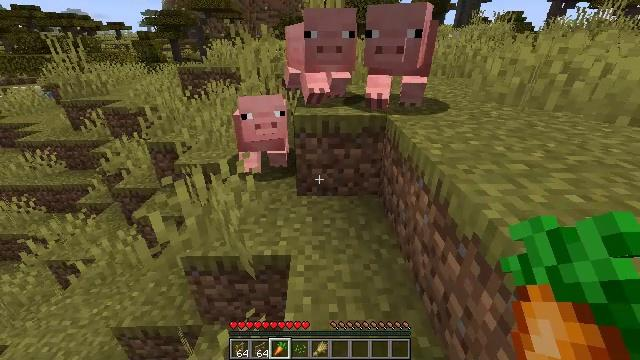pig: (364, 5, 431, 111), (285, 14, 355, 98), (233, 95, 289, 173)
